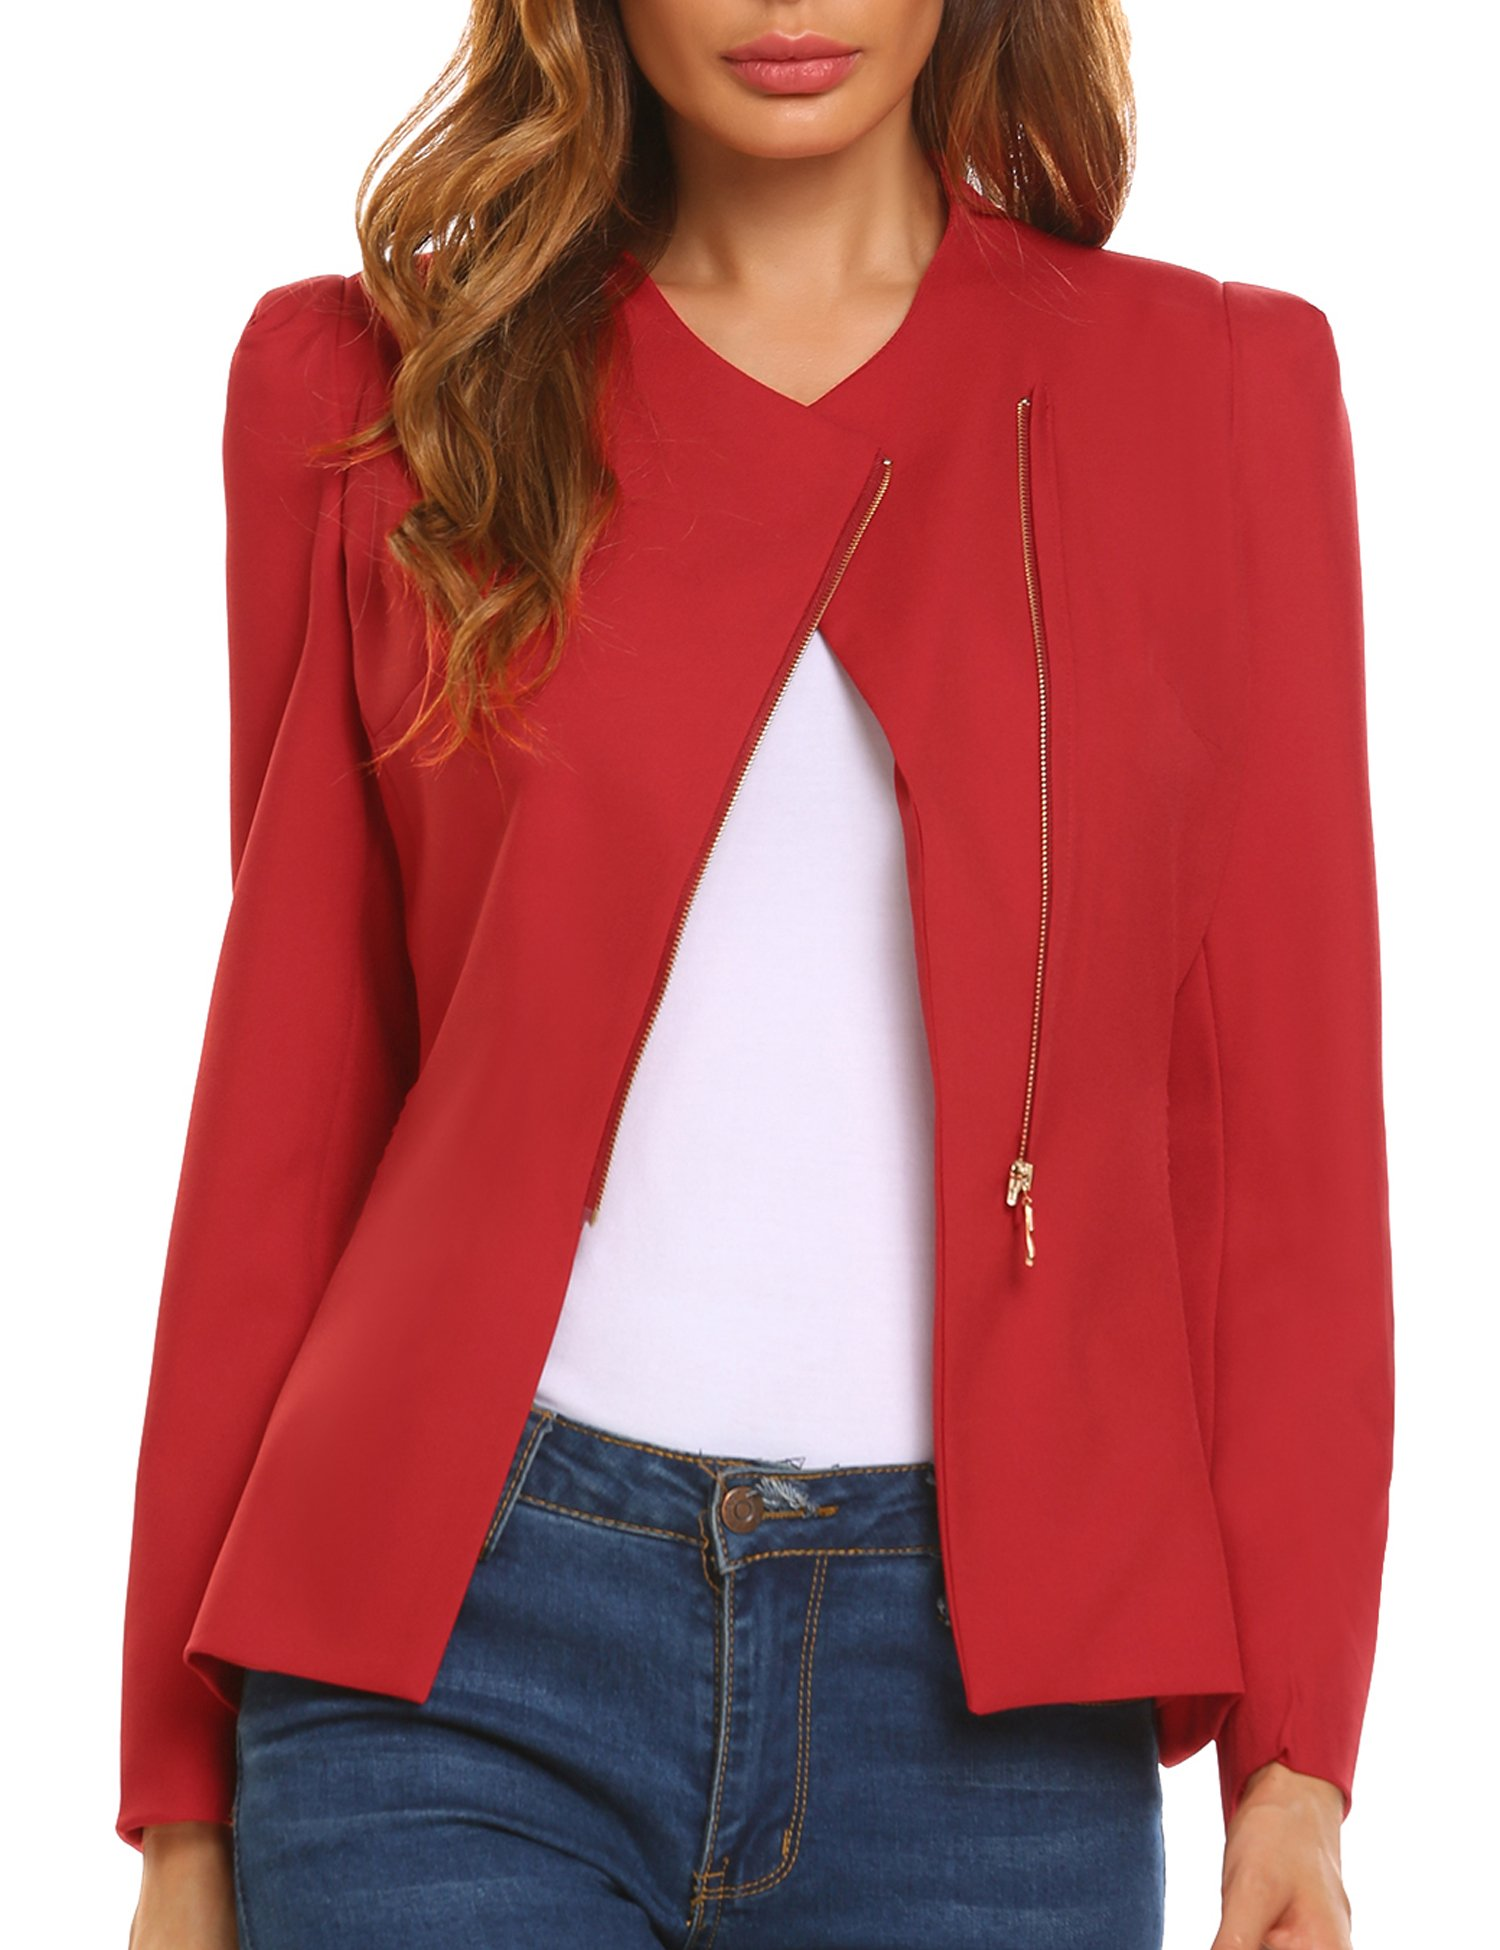F_W_suit jacket: (121, 238, 1391, 1662)
